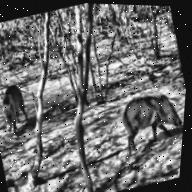boar: (112, 86, 186, 158), (0, 80, 35, 138)
